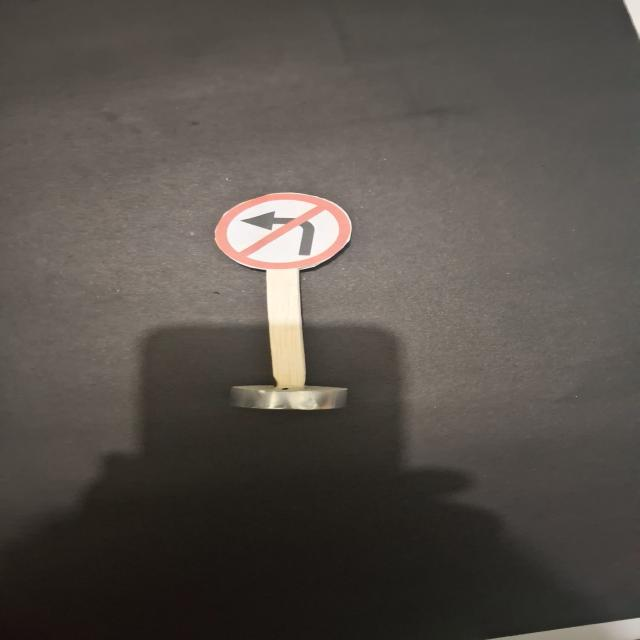Dilarang Belok Kiri: (215, 193, 351, 270)
